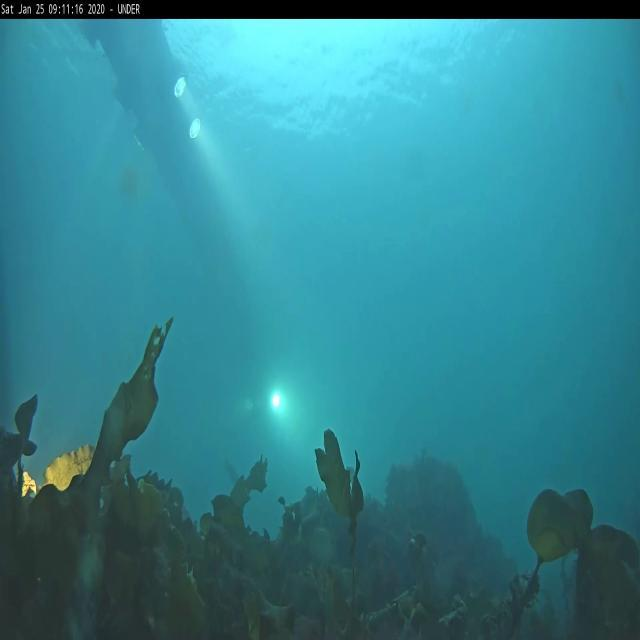fish: (138, 470, 172, 494), (224, 458, 242, 484)
